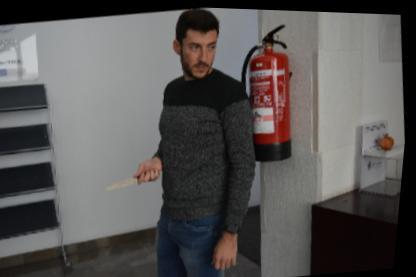knife: (104, 166, 152, 190)
